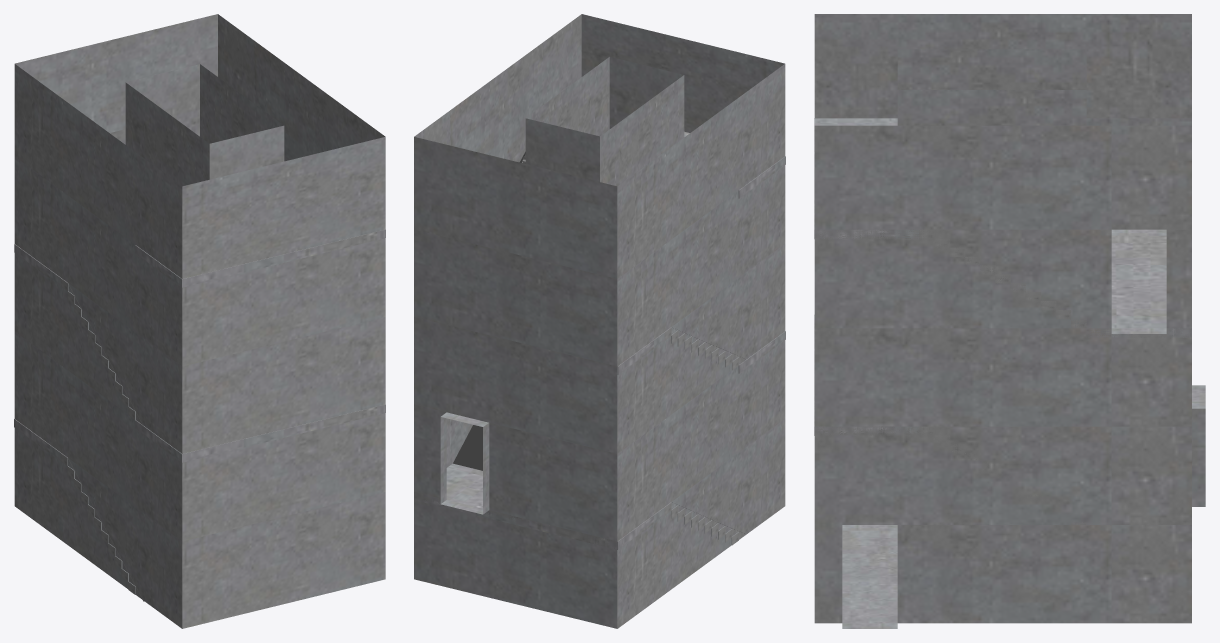
The model's file is Loop_Exit_M.fbx.
3 views of the same model, side by side, from view 1: azimuth 30°, elevation 25°; view 2: azimuth 150°, elevation 25°; view 3: azimuth 270°, elevation 25° (orthographic). The views are drawn at different scales.
Parts seen in each view (by area): view 1: polySurface9, polySurface51, polySurface28, polySurface21, polySurface43; view 2: polySurface9, polySurface21, polySurface43, pPlane7; view 3: polySurface9, polySurface43, polySurface51, polySurface28.
Part boxes in pixels (left/top/right/bottom): polySurface9: left=14, top=14, right=385, bottom=628; polySurface51: left=135, top=229, right=385, bottom=287; polySurface28: left=135, top=404, right=385, bottom=462; polySurface21: left=14, top=419, right=135, bottom=594; polySurface43: left=14, top=244, right=135, bottom=419; polySurface9: left=414, top=14, right=785, bottom=628; polySurface21: left=415, top=463, right=738, bottom=549; polySurface43: left=617, top=327, right=739, bottom=374; pPlane7: left=453, top=425, right=482, bottom=470; polySurface9: left=814, top=14, right=1205, bottom=628; polySurface43: left=1086, top=235, right=1191, bottom=337; polySurface51: left=814, top=118, right=1086, bottom=328; polySurface28: left=814, top=315, right=1086, bottom=524.
Size of the model in its own units: 10.67 by 21.08 by 15.
Materials: 3 (3 with a texture image).
